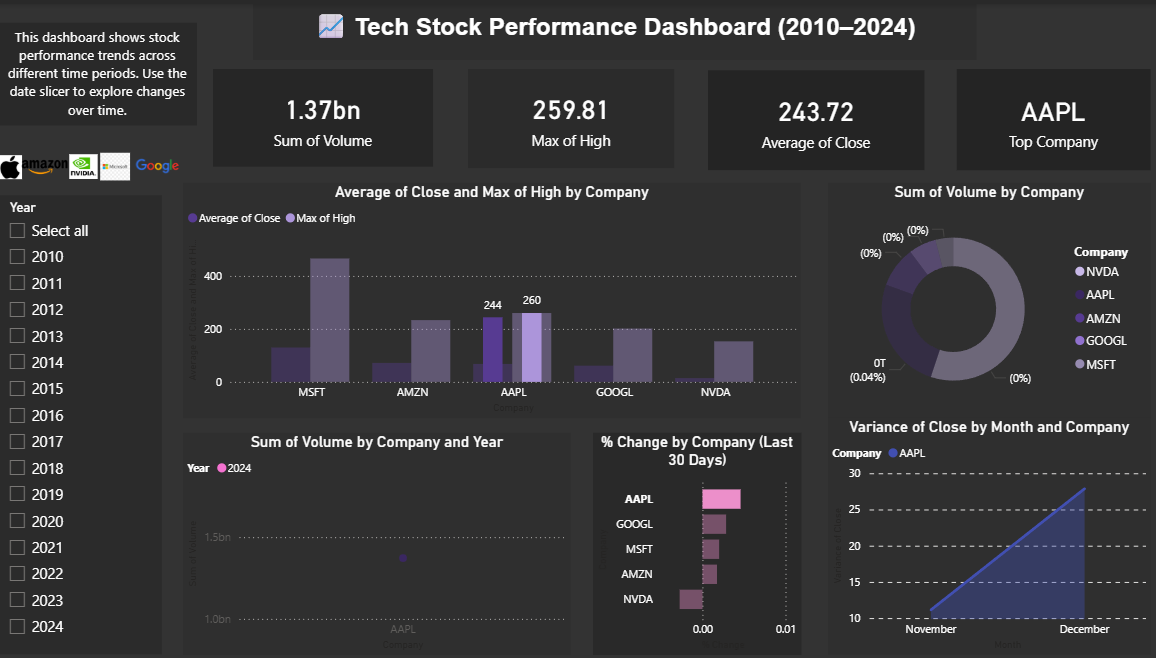

The dashboard page shown, as its layout file describes it:
{"tool":"powerbi","page":{"name":"Page 1","canvas":[1280,720],"ordinal":0},"visuals":[{"type":"card","fields":{"Values":["Max(Stock data.High)"]},"box":[516,71.4,226.4,108.4],"z":0},{"type":"clusteredColumnChart","fields":{"Category":["Stock data.Company"],"Y":["Avg(Stock data.Close)","Max(Stock data.High)"]},"box":[202.9,195.7,678.6,258.6],"z":1000},{"type":"slicer","fields":{"Values":["Stock data.Year"]},"box":[0,209.9,179.8,503.6],"z":2000},{"type":"card","fields":{"Values":["Sum(Stock data.Volume)"]},"box":[236,71.4,241.5,107],"z":3000},{"type":"textbox","box":[279.9,0,794.5,61.7],"z":4000},{"type":"donutChart","fields":{"Category":["Stock data.Company"],"Y":["Sum(Stock data.Volume)"]},"box":[911.4,195.7,354.3,258.6],"z":5000},{"type":"card","fields":{"Values":["Avg(Stock data.Close)"]},"box":[779.4,72.7,237.4,109.8],"z":6000},{"type":"image","box":[0,161.9,26.1,34.3],"z":7000},{"type":"image","box":[26.1,164.7,50.8,28.8],"z":8000},{"type":"image","box":[78.2,163.3,31.6,30.2],"z":9000},{"type":"image","box":[109.8,163.3,37,30.2],"z":10000},{"type":"image","box":[146.8,167.4,56.3,20.6],"z":11000},{"type":"areaChart","fields":{"Category":["Stock data.Date.Variation.Date Hierarchy.Month"],"Series":["Stock data.Company"],"Y":["Variance(Stock data.Close)"]},"box":[911.4,454.3,354.3,260],"z":12000},{"type":"card","fields":{"Values":["Stock data.Top Company"]},"box":[1052.5,71.4,212.7,111.1],"z":13000},{"type":"clusteredBarChart","title":"% Change by Company (Last 30 Days)","fields":{"Category":["Stock data.Company"],"Y":["Stock data.% Change"]},"box":[652.9,470,228.6,244.3],"z":14000},{"type":"textbox","box":[0,20.6,218.2,112.5],"z":15000},{"type":"areaChart","fields":{"Category":["Stock data.Company"],"Y":["Sum(Stock data.Volume)"],"Series":["Stock data.Year"]},"box":[202.9,470,425.7,244.3],"z":16000}]}

Visuals, with their boxes in screenshot pixels (x1, y1, x2, y2), scaled from the page's 1280x720 canvas onto the 1156x658 screenshot:
card - Max(Stock data.High): 466 65 670 164
clusteredColumnChart - Stock data.Company x Avg(Stock data.Close): 183 179 796 415
slicer - Stock data.Year: 0 192 162 652
card - Sum(Stock data.Volume): 213 65 431 163
textbox: 253 0 970 56
donutChart - Stock data.Company x Sum(Stock data.Volume): 823 179 1143 415
card - Avg(Stock data.Close): 704 66 918 167
image: 0 148 24 179
image: 24 151 69 177
image: 71 149 99 177
image: 99 149 133 177
image: 133 153 183 172
areaChart - Stock data.Date.Variation.Date Hierarchy.Month x Stock data.Company: 823 415 1143 653
card - Stock data.Top Company: 951 65 1143 167
"% Change by Company (Last 30 Days)" clusteredBarChart: 590 430 796 653
textbox: 0 19 197 122
areaChart - Stock data.Company x Sum(Stock data.Volume): 183 430 568 653
